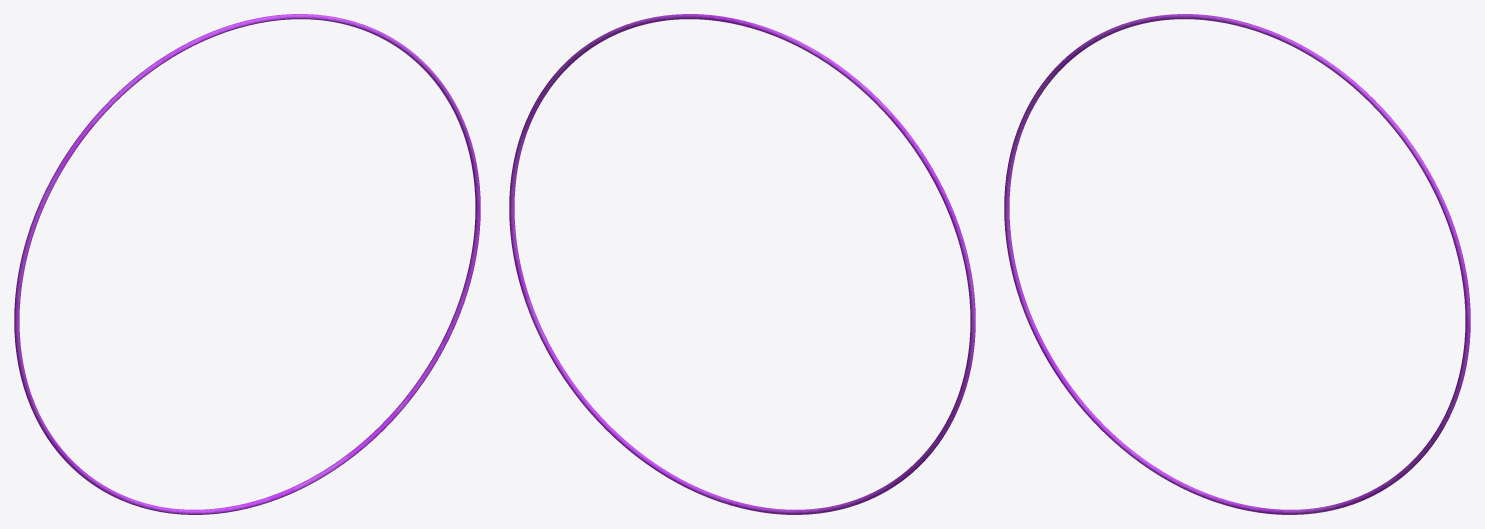
Rendered from LRing_Purple.glb.
3 views of the same model, side by side, from view 1: azimuth 30°, elevation 25°; view 2: azimuth 150°, elevation 25°; view 3: azimuth 330°, elevation 25° (orthographic).
Visible parts, largest first — view 1: RingS.obj; view 2: RingS.obj; view 3: RingS.obj.
Boxes of the visible parts, x1,y1,x2,y2 form: RingS.obj: (14,14,480,514); RingS.obj: (509,14,975,514); RingS.obj: (1004,14,1470,514).
Size of the model in its own units: 7.95 by 7.95 by 0.0761.
Materials: 1 (1 with a texture image).
